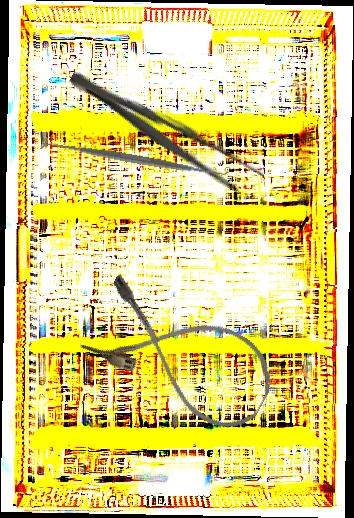Cannula: (76, 268, 287, 442)
Dressing Forceps: (62, 61, 268, 201)
Spatula Surgical: (39, 132, 229, 187)
